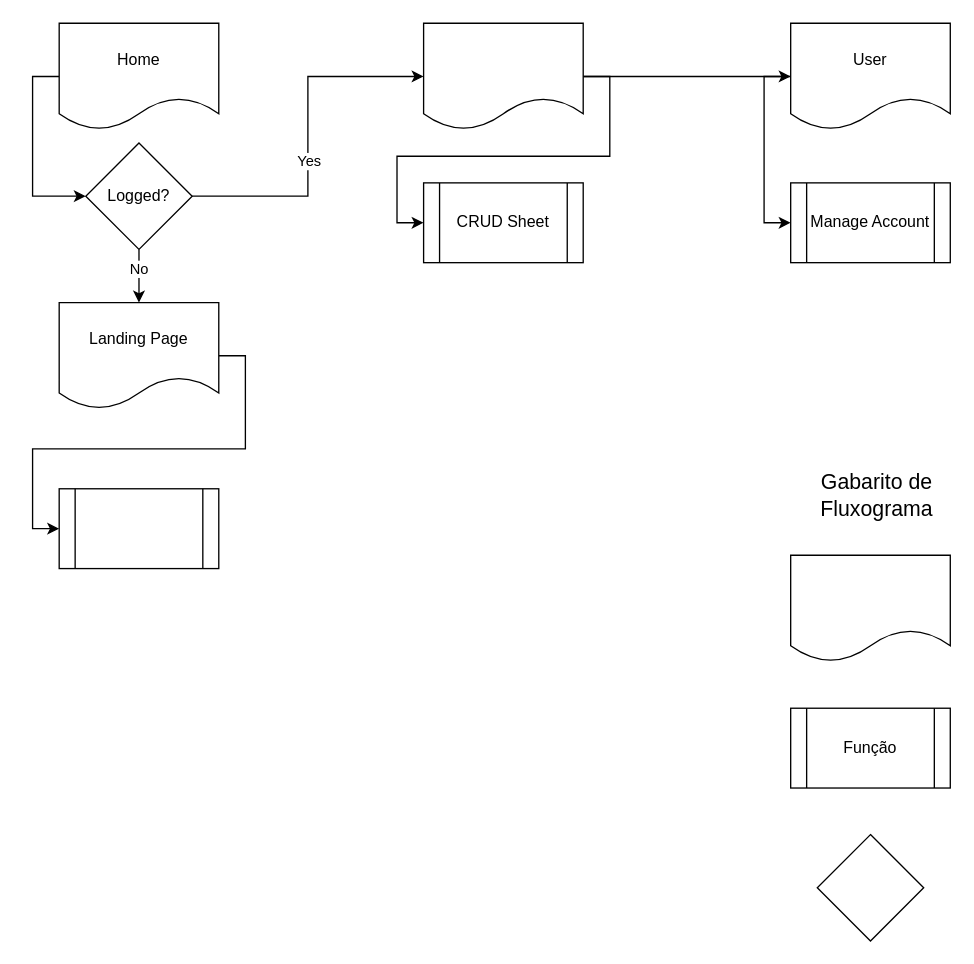
This 974x964 diagram has some shape labels left out. The shapes that lost their labels are listed below. From the top down, each one's box as (x1, y1, x2, y2) in pixels, then its label:
(422, 22, 583, 130): Pack
(58, 487, 219, 569): Sign-up / Sign-in
(789, 554, 950, 662): Página
(816, 833, 924, 941): Condição
